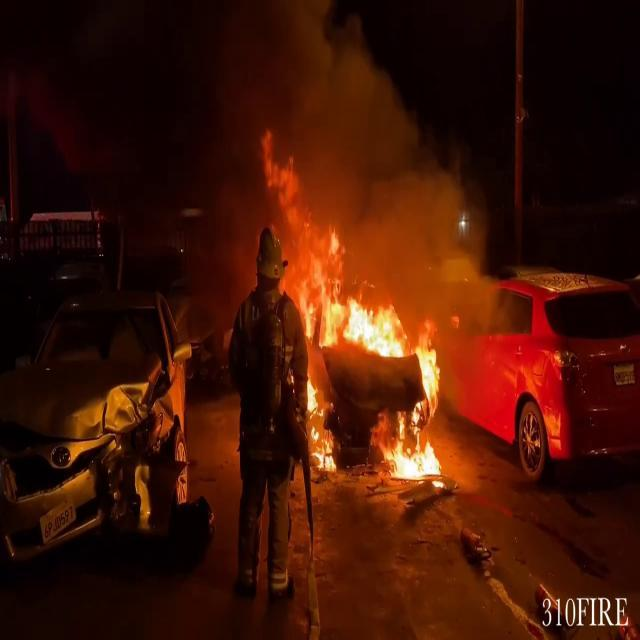Fire: (299, 259, 457, 487)
Smoke: (170, 0, 484, 345)
